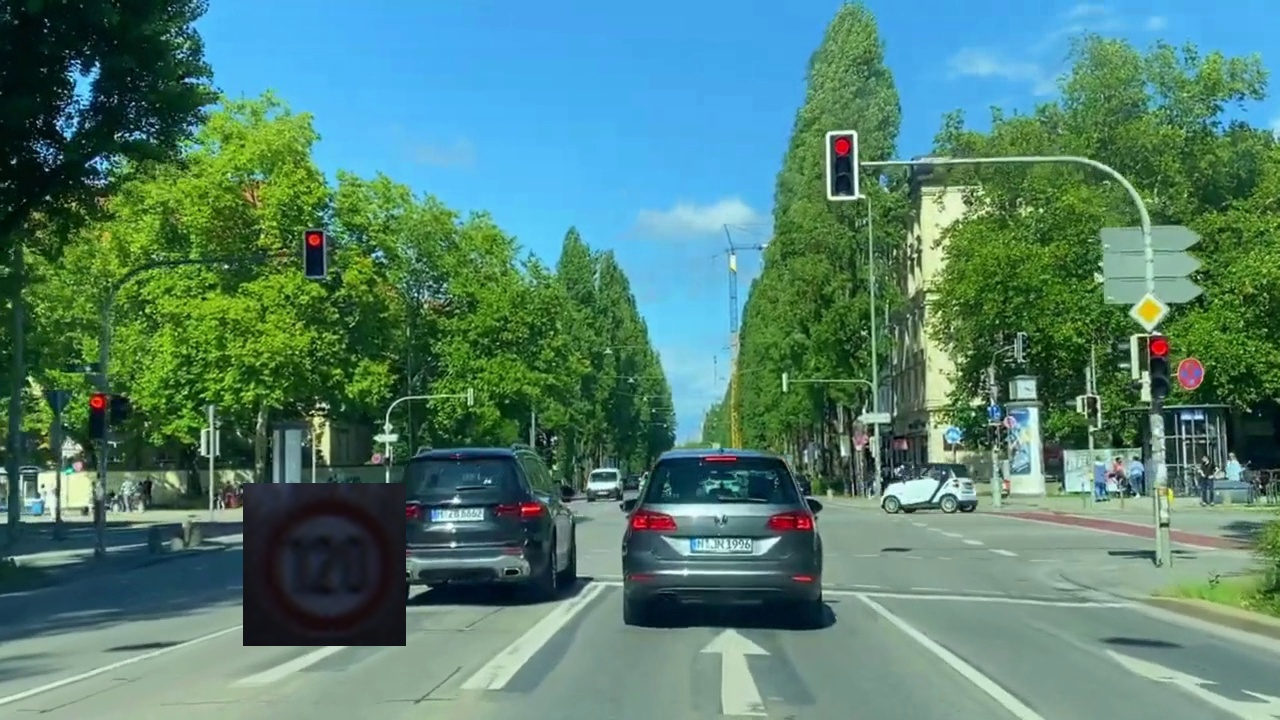Speed 120: (243, 483, 406, 646)
